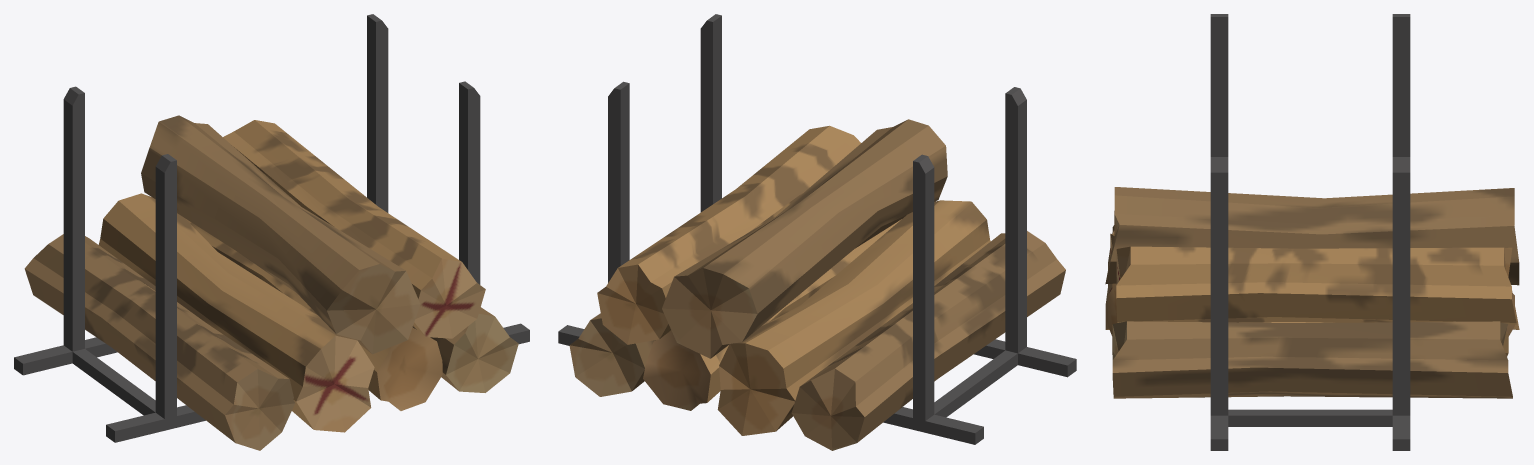
The model's file is SM_Prop_LogPile_Preset_Wide_01.fbx.
3 renders of one model, left to right at view 1: azimuth 30°, elevation 25°; view 2: azimuth 150°, elevation 25°; view 3: azimuth 270°, elevation 25°, orthographic.
Visible parts, largest first — view 1: SM_Prop_LogPile_Preset_Wide_01; view 2: SM_Prop_LogPile_Preset_Wide_01; view 3: SM_Prop_LogPile_Preset_Wide_01.
Boxes of the visible parts, x1=… form: SM_Prop_LogPile_Preset_Wide_01: x1=14, y1=14, x2=529, y2=450; SM_Prop_LogPile_Preset_Wide_01: x1=558, y1=14, x2=1076, y2=450; SM_Prop_LogPile_Preset_Wide_01: x1=1105, y1=14, x2=1519, y2=450.
Size of the model in its own units: 905 by 557 by 792.
